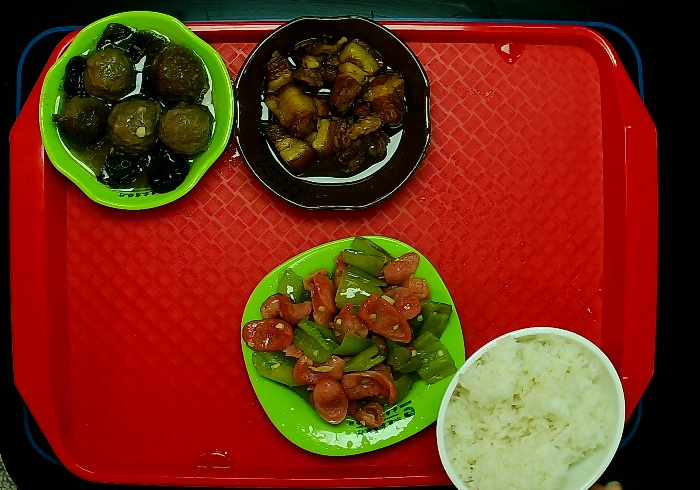YKMZ-Fan_Wan: (431, 327, 630, 490)
YKMZ-Ka_Fei_Ao_Bian_Wan: (234, 17, 436, 214)
YKMZ-Lv_Se_Ao_Bian_Wan: (36, 12, 234, 213)
YKMZ-Lv_Se_Fang_Die: (242, 232, 464, 460)
